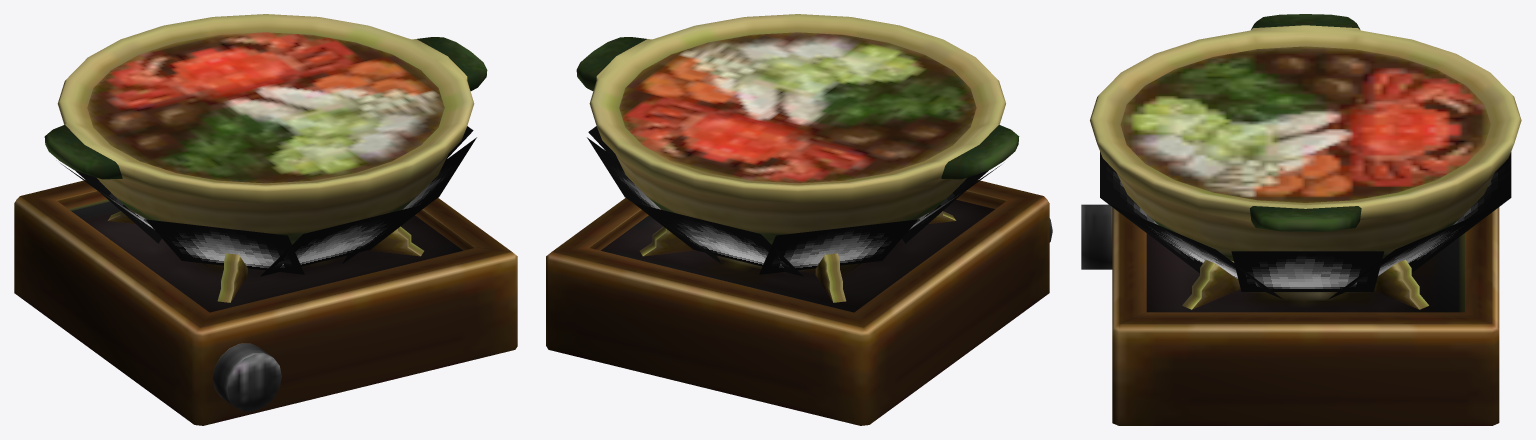
File: rmk_jpn_pot.dae
3 renders of one model, left to right at view 1: azimuth 30°, elevation 25°; view 2: azimuth 150°, elevation 25°; view 3: azimuth 270°, elevation 25°, orthographic. The views are drawn at different scales.
Parts seen in each view (by area): view 1: rmk_jpn_pot; view 2: rmk_jpn_pot; view 3: rmk_jpn_pot.
Boxes of the visible parts, x1,y1,x2,y2 form: rmk_jpn_pot: (14,14,517,425); rmk_jpn_pot: (546,14,1052,425); rmk_jpn_pot: (1081,14,1521,425).
Bounding box in the file's own units: 27.09 × 13.75 × 24.15.
Materials: 2 (2 with a texture image).
